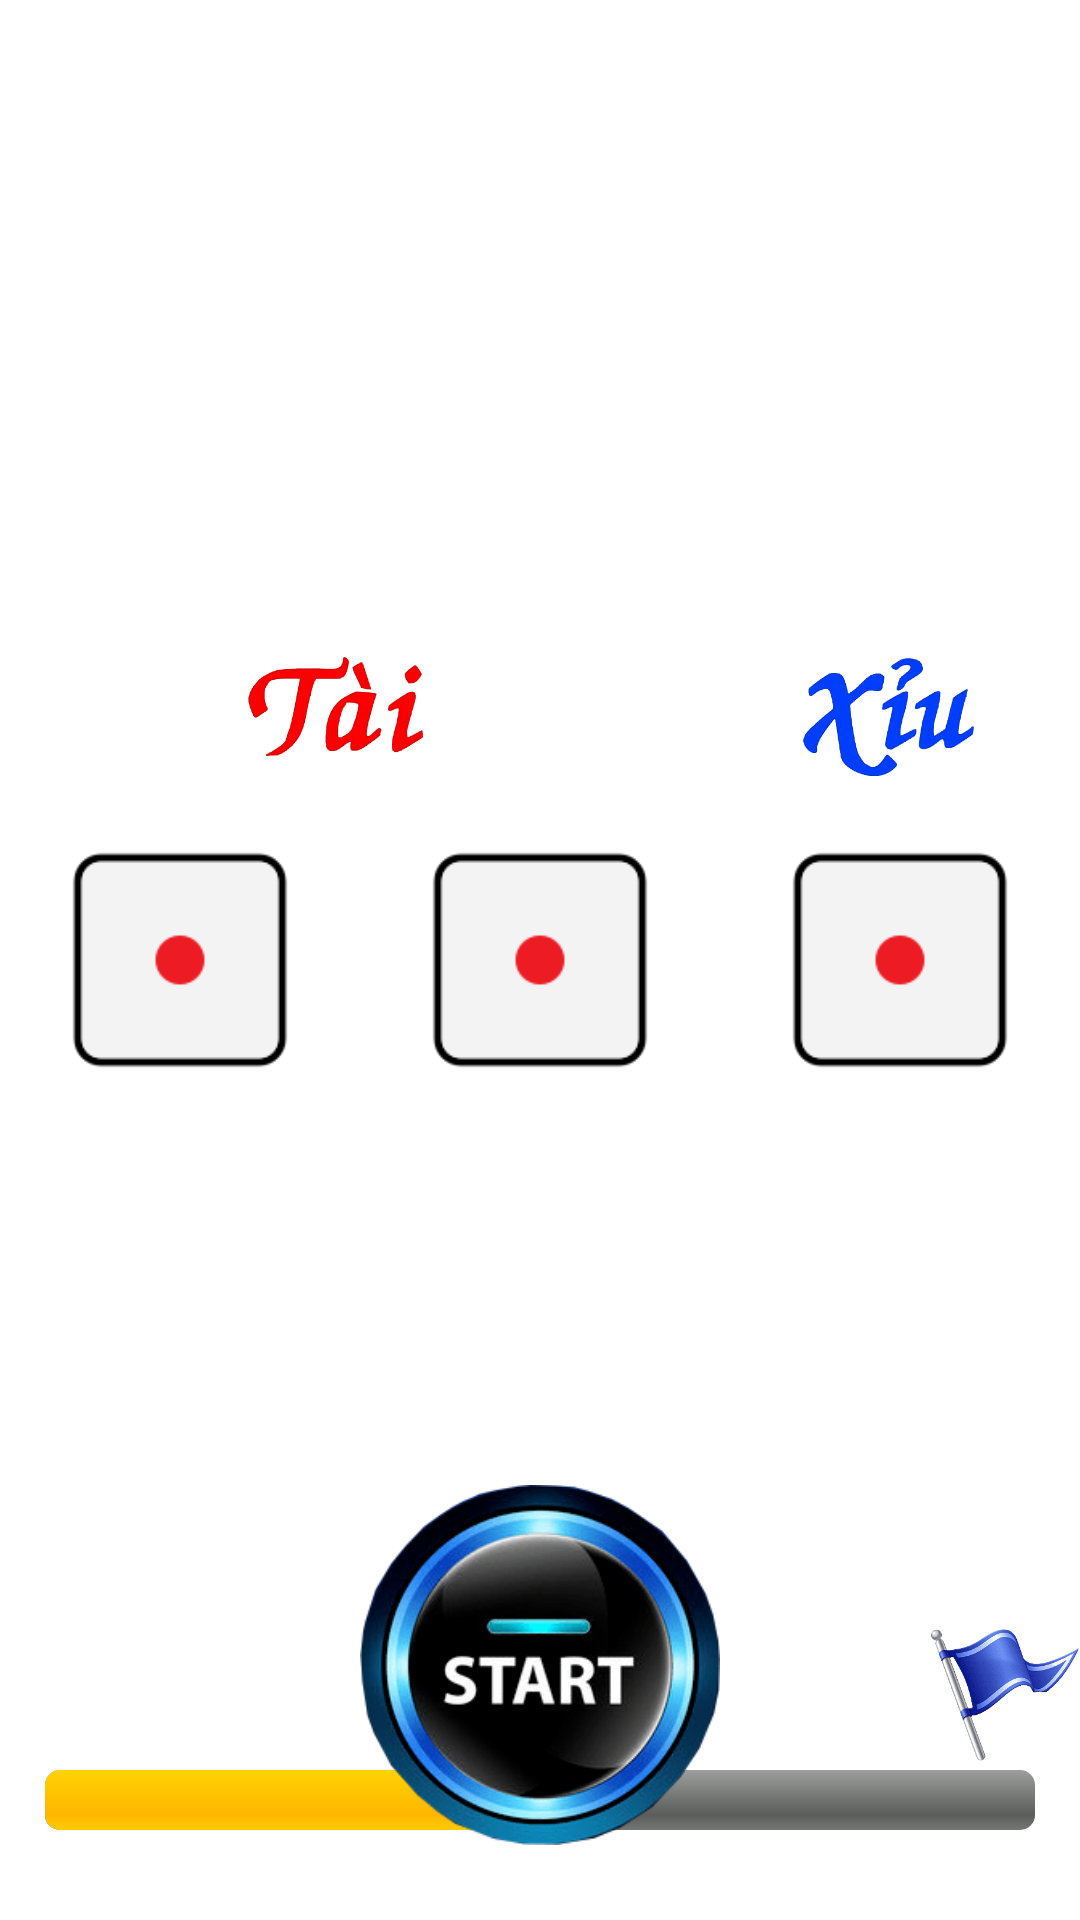

Icon click points for this 1080w x 1920h phone screenshot, format [x,y]:
destination: [1005,1695]
number: [180,960], [540,960], [900,960]
